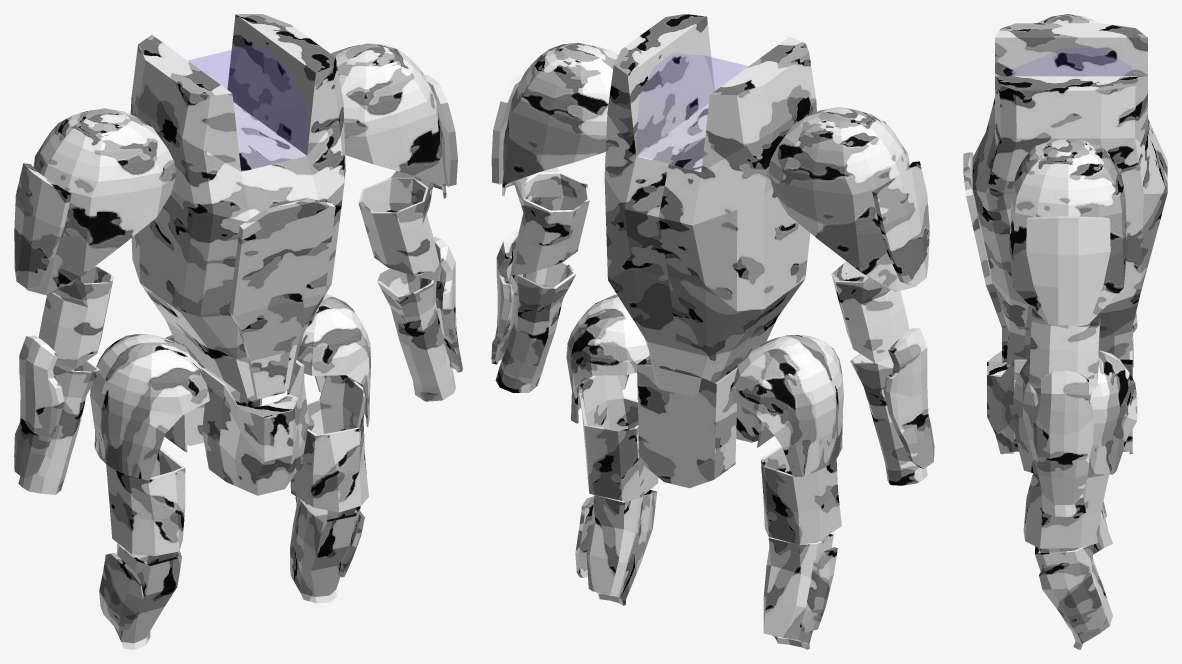
The model's file is Armadura1.fbx.
3 renders of one model, left to right at view 1: azimuth 30°, elevation 25°; view 2: azimuth 150°, elevation 25°; view 3: azimuth 270°, elevation 25°, orthographic. The views are drawn at different scales.
Parts seen in each view (by area): view 1: polySurface17.001, polySurface54.001, polySurface10.001, pSphere18.001, polySurface65.001, polySurface7.001, pCylinder45.001, pCylinder36.001, pCylinder46.001, polySurface62.001, pCylinder35.001, polySurface63.001 (+9 smaller); view 2: polySurface17.001, polySurface54.001, polySurface65.001, pSphere18.001, polySurface7.001, pCylinder45.001, pCylinder46.001, pCylinder36.001, polySurface62.001, polySurface63.001, pSphere23.001, polySurface55.001 (+9 smaller); view 3: polySurface17.001, polySurface65.001, polySurface64.001, polySurface60.001, pSphere23.001, pCylinder46.001, pCylinder45.001, polySurface61.001, polySurface7.001, polySurface63.001, polySurface10.001, polySurface62.001 (+2 smaller).
Part boxes in pixels (left/top/right/bottom): polySurface17.001: left=130, top=14, right=345, bottom=400; polySurface54.001: left=26, top=108, right=175, bottom=295; polySurface10.001: left=229, top=198, right=335, bottom=399; pSphere18.001: left=90, top=334, right=209, bottom=480; polySurface65.001: left=331, top=43, right=446, bottom=198; polySurface7.001: left=164, top=335, right=308, bottom=495; pCylinder45.001: left=290, top=375, right=368, bottom=512; pCylinder36.001: left=106, top=448, right=185, bottom=555; pCylinder46.001: left=358, top=171, right=443, bottom=281; polySurface62.001: left=377, top=268, right=455, bottom=401; pCylinder35.001: left=38, top=266, right=113, bottom=375; polySurface63.001: left=290, top=496, right=360, bottom=603; polySurface17.001: left=604, top=14, right=816, bottom=397; polySurface54.001: left=769, top=107, right=916, bottom=291; polySurface65.001: left=502, top=42, right=618, bottom=196; pSphere18.001: left=732, top=335, right=843, bottom=476; polySurface7.001: left=637, top=355, right=774, bottom=488; pCylinder45.001: left=579, top=375, right=658, bottom=500; pCylinder46.001: left=510, top=167, right=589, bottom=275; pCylinder36.001: left=761, top=446, right=841, bottom=544; polySurface62.001: left=495, top=262, right=576, bottom=392; polySurface63.001: left=586, top=490, right=657, bottom=605; pSphere23.001: left=566, top=294, right=649, bottom=423; polySurface55.001: left=872, top=161, right=929, bottom=285; polySurface17.001: left=972, top=23, right=1167, bottom=367; polySurface65.001: left=1009, top=139, right=1127, bottom=328; polySurface64.001: left=1026, top=216, right=1110, bottom=325; polySurface60.001: left=1033, top=371, right=1093, bottom=504; pSphere23.001: left=1013, top=350, right=1137, bottom=477; pCylinder46.001: left=1029, top=308, right=1100, bottom=394; pCylinder45.001: left=1023, top=473, right=1108, bottom=548; polySurface61.001: left=1039, top=561, right=1106, bottom=633; polySurface7.001: left=987, top=329, right=1132, bottom=454; polySurface63.001: left=1035, top=544, right=1112, bottom=649; polySurface10.001: left=963, top=152, right=1008, bottom=362; polySurface62.001: left=1035, top=391, right=1091, bottom=516.
Bounding box in the file's own units: 350 × 438 × 149.
3 materials, 1 textured.
